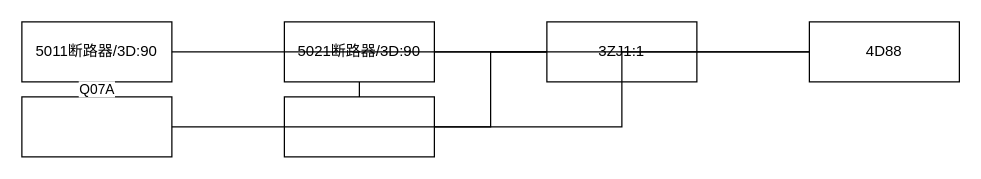
Image size: 981x179. Some labels were removed from this diagram. The shapes that lost their labels are listed below. From the top down, each one's centre as x and y in pixels, then its label:
At (96,126): "5011断路器/3D:91".
At (358,126): "5021断路器/3D:91".
